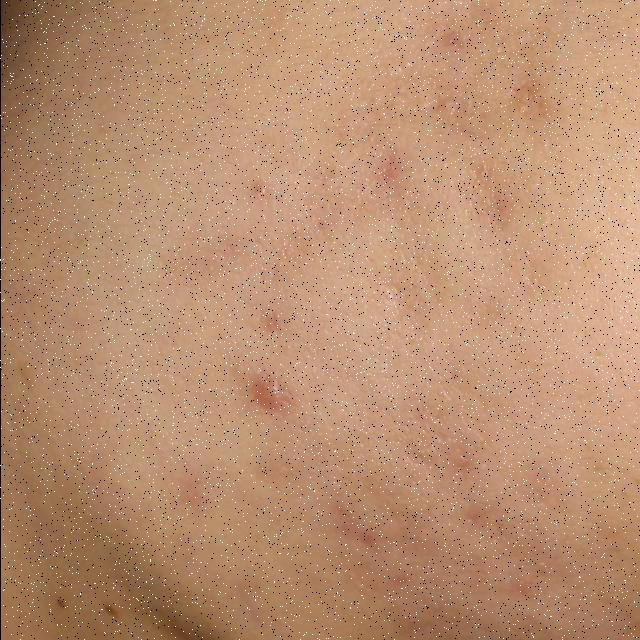nodules: (235, 357, 309, 429)
